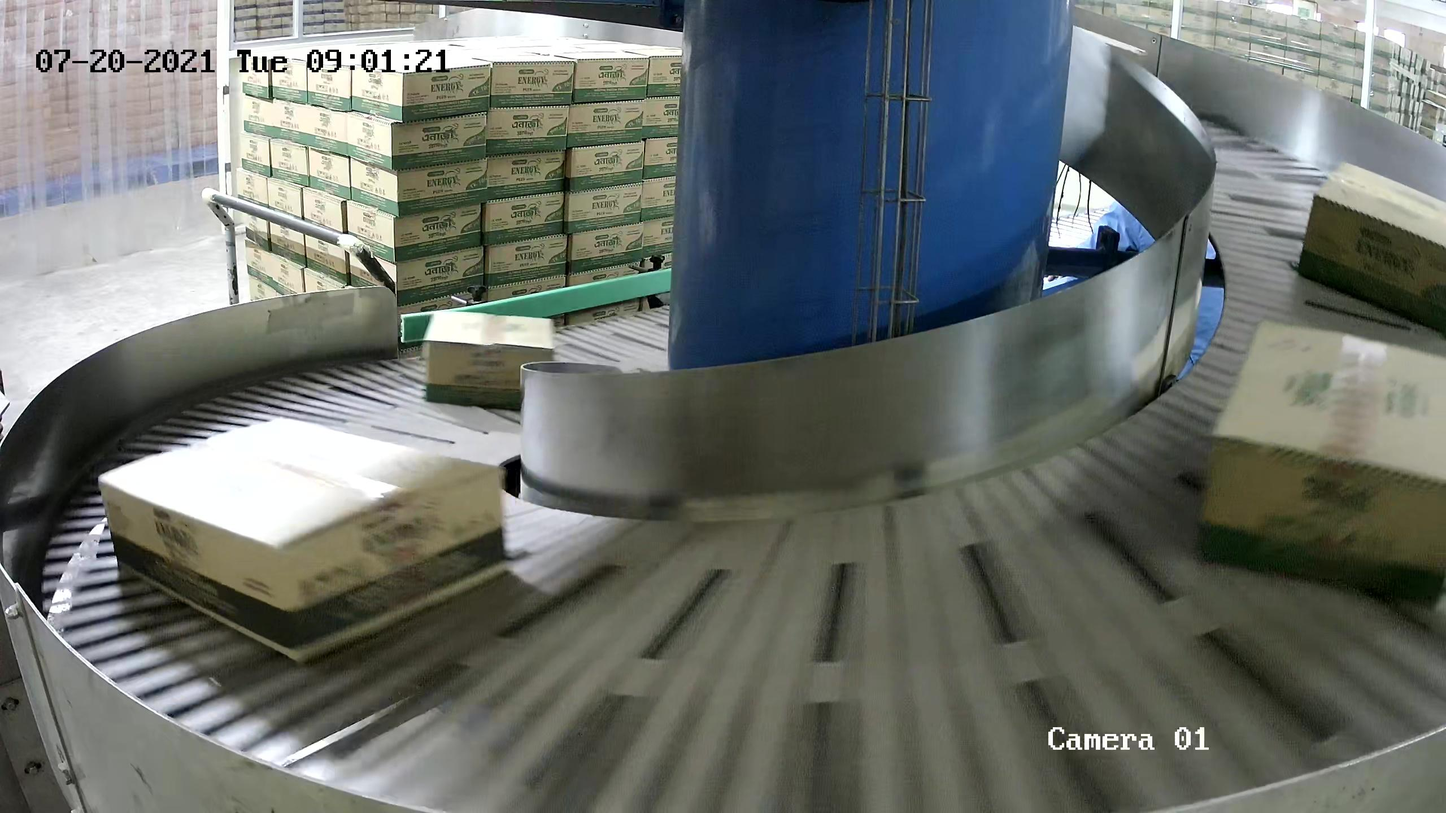Box: (95, 415, 511, 664), (1193, 314, 1446, 610), (1295, 162, 1446, 335), (424, 311, 556, 411)
